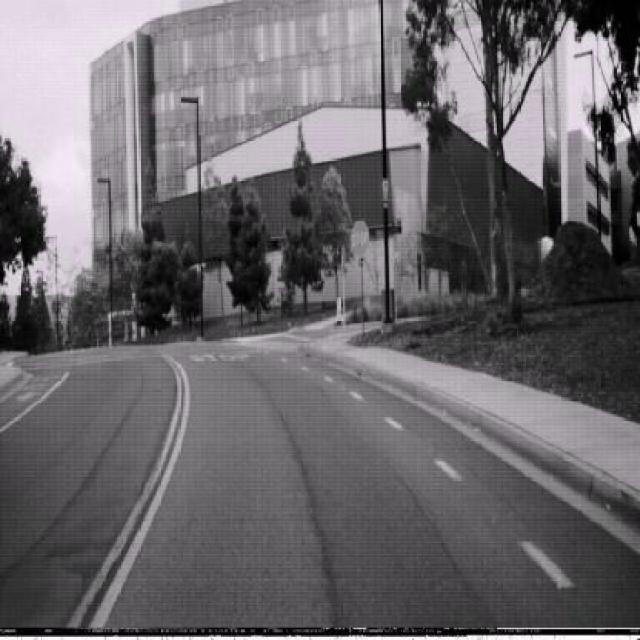stop: (351, 218, 370, 258)
